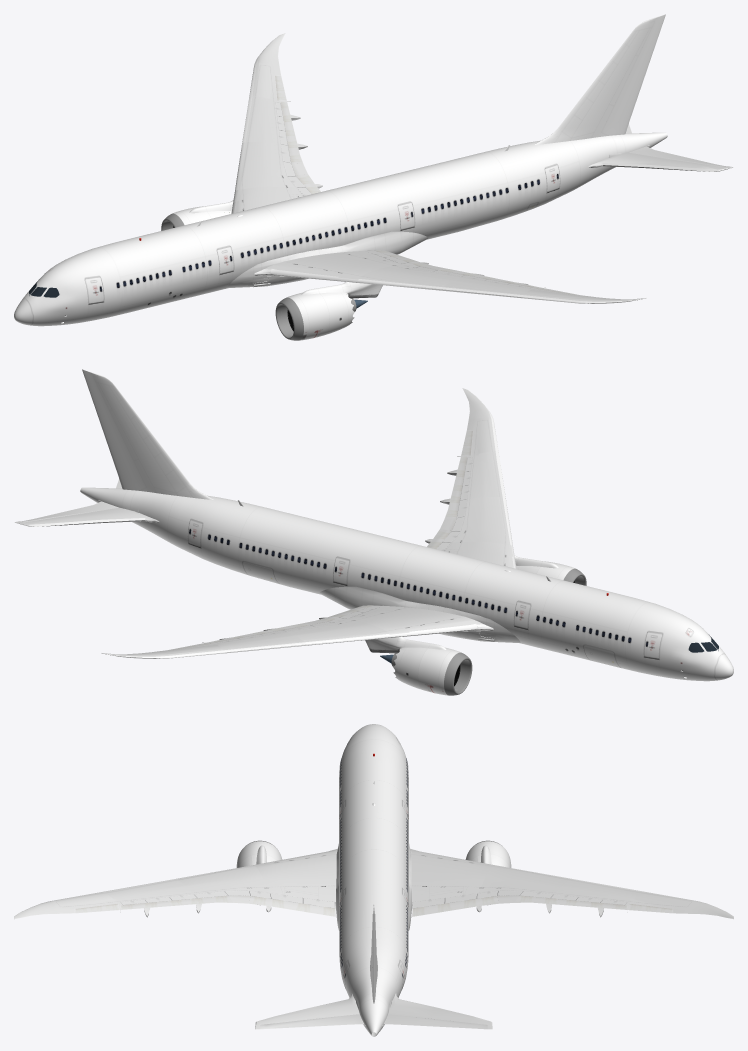
File: dreamliner-787-9.glb
The picture shows the model from 3 angles, top to bottom: view 1: azimuth 30°, elevation 25°; view 2: azimuth 150°, elevation 25°; view 3: azimuth 270°, elevation 25°; orthographic projection.
Visible parts, largest first — view 1: skin, nacelle, chrome, inlet; view 2: skin, nacelle, chrome, inlet; view 3: skin, nacelle, chrome.
Boxes of the visible parts, <box> form: skin: <box>14,14,733,326</box>; nacelle: <box>167,206,354,340</box>; chrome: <box>231,27,667,303</box>; inlet: <box>161,200,382,340</box>; skin: <box>14,369,733,681</box>; nacelle: <box>393,561,580,695</box>; chrome: <box>80,382,516,658</box>; inlet: <box>365,555,586,695</box>; skin: <box>14,724,733,1034</box>; nacelle: <box>236,841,511,905</box>; chrome: <box>14,850,733,1036</box>.
Size of the model in its own units: 62.75 by 16.29 by 59.54.
10 materials, 7 textured.
